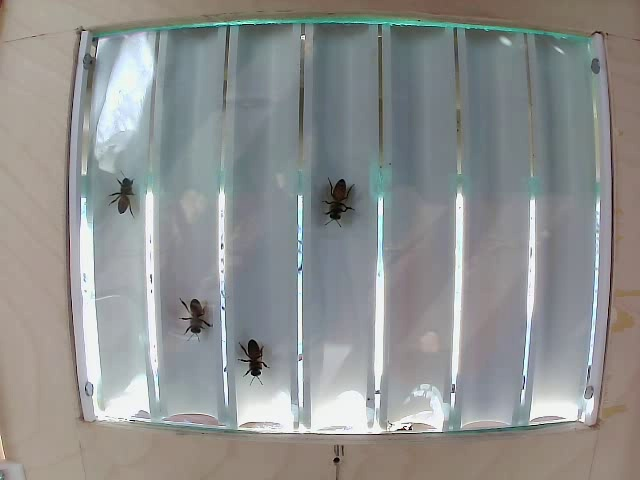bee: (315, 168, 359, 223), (234, 329, 270, 390), (100, 168, 145, 216), (179, 291, 216, 341)
